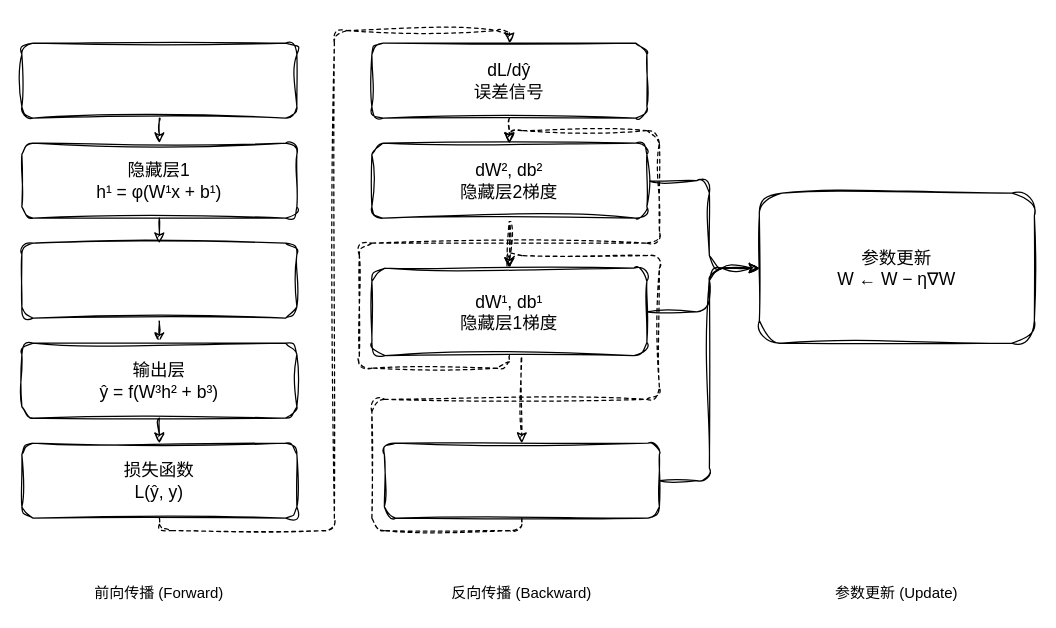
Some shapes in this 1056 by 628 pixel diagram are drawn without their labels. The centre of each missing label's shape, as x and y in pixels:
"dW³, db³ 输出层梯度" goes at point (521, 480).
"输入层 x" goes at point (159, 80).
"隐藏层2 h² = φ(W²h¹ + b²)" goes at point (159, 280).
